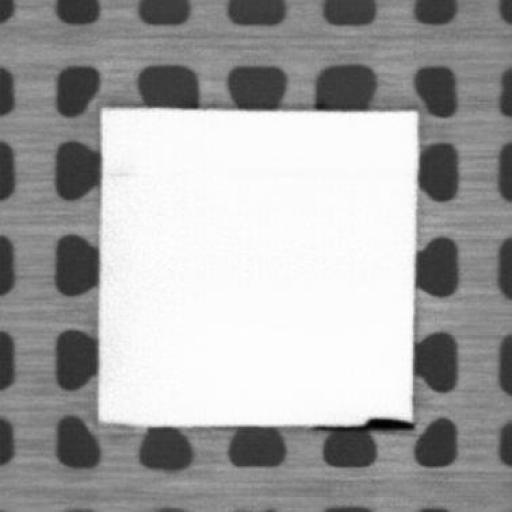DIE_BROKEN: (355, 414, 414, 430)
